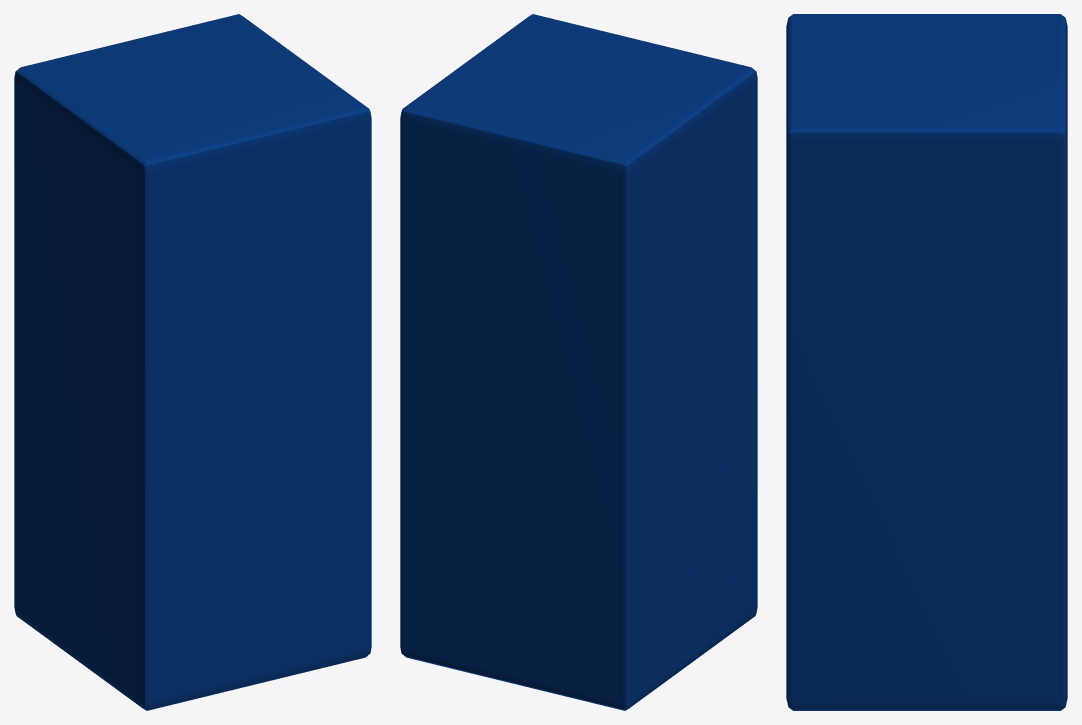
Rendered from sm_rectangularblock.fbx.
3 views of the same model, side by side, from view 1: azimuth 30°, elevation 25°; view 2: azimuth 150°, elevation 25°; view 3: azimuth 270°, elevation 25° (orthographic). The views are drawn at different scales.
Visible parts, largest first — view 1: rectangleblock_low; view 2: rectangleblock_low; view 3: rectangleblock_low.
Boxes of the visible parts, left/top/right/bottom form: rectangleblock_low: left=14, top=14, right=371, bottom=710; rectangleblock_low: left=400, top=14, right=757, bottom=710; rectangleblock_low: left=786, top=14, right=1067, bottom=710.
Size of the model in its own units: 25.4 by 58.17 by 25.4.
